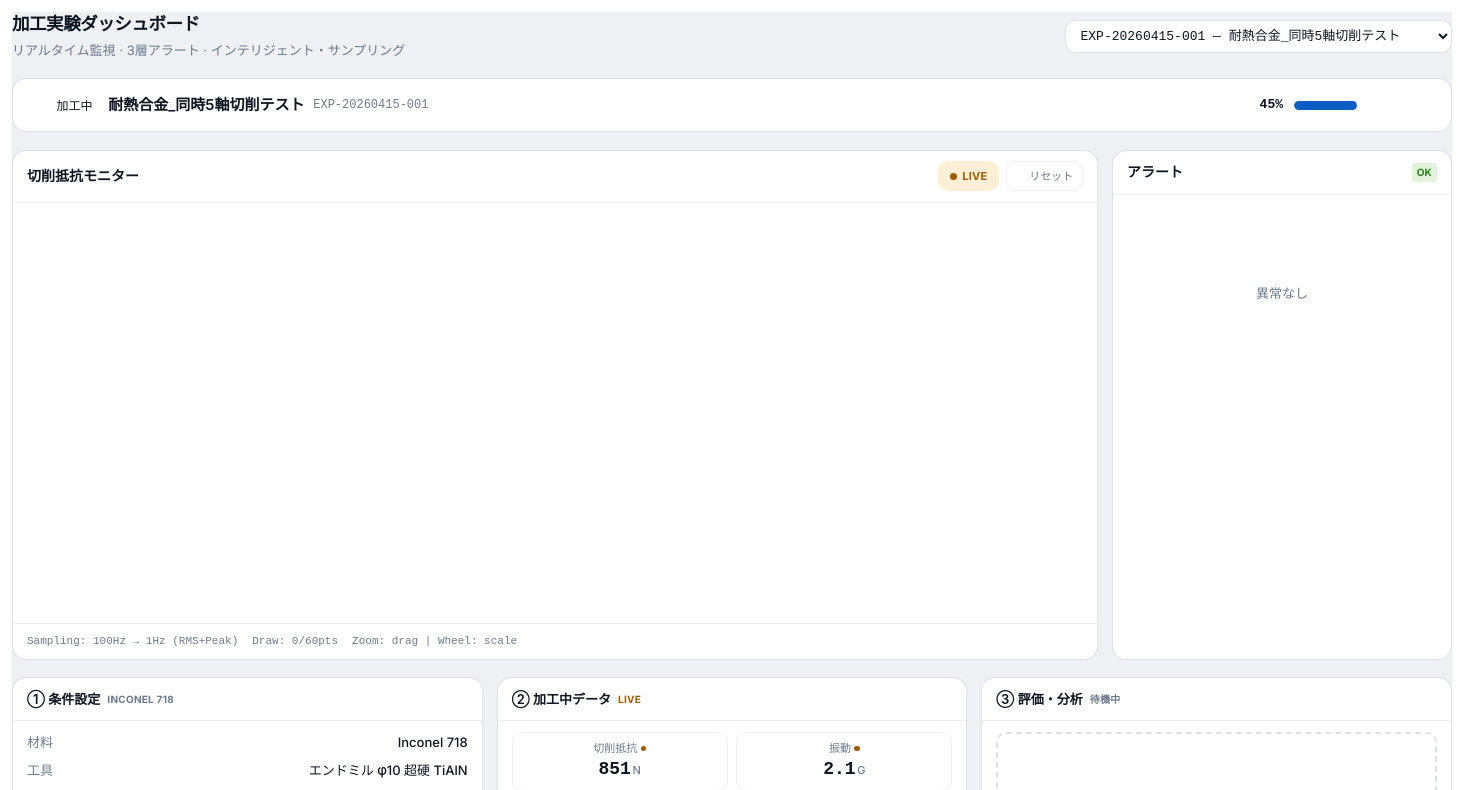
Test: ExperimentDashPage › 一時停止ボタンで LIVE → 再開に切り替わる
Step 1. Click the button with aria-label "一時停止" → click(969, 176), box [938,161,999,191]
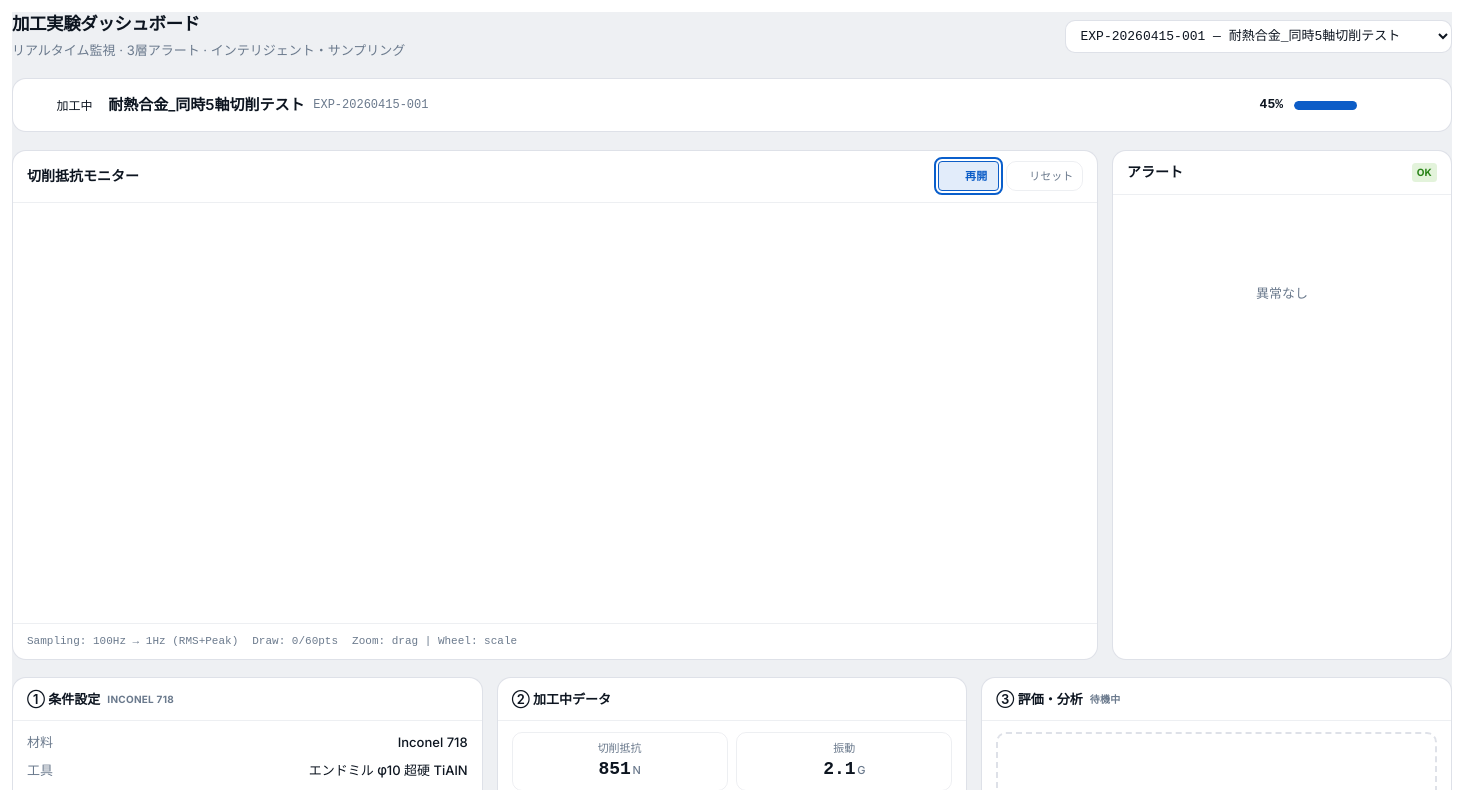
Check: the button "再開" is shown
Step 2. Click the button "再開" → click(969, 176), box [938,161,999,191]
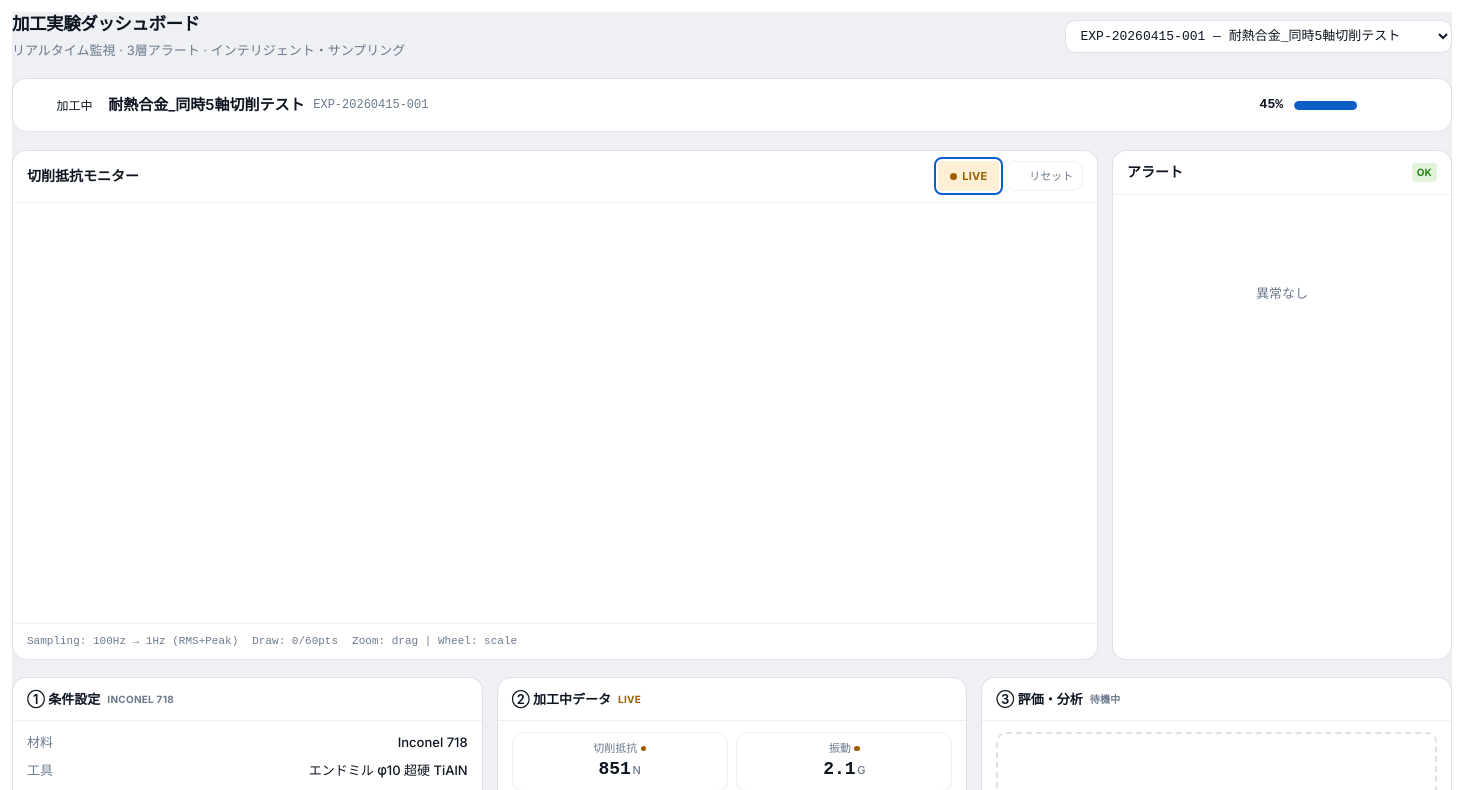
Check: the button with aria-label "一時停止" is shown, box [938,161,999,191]
